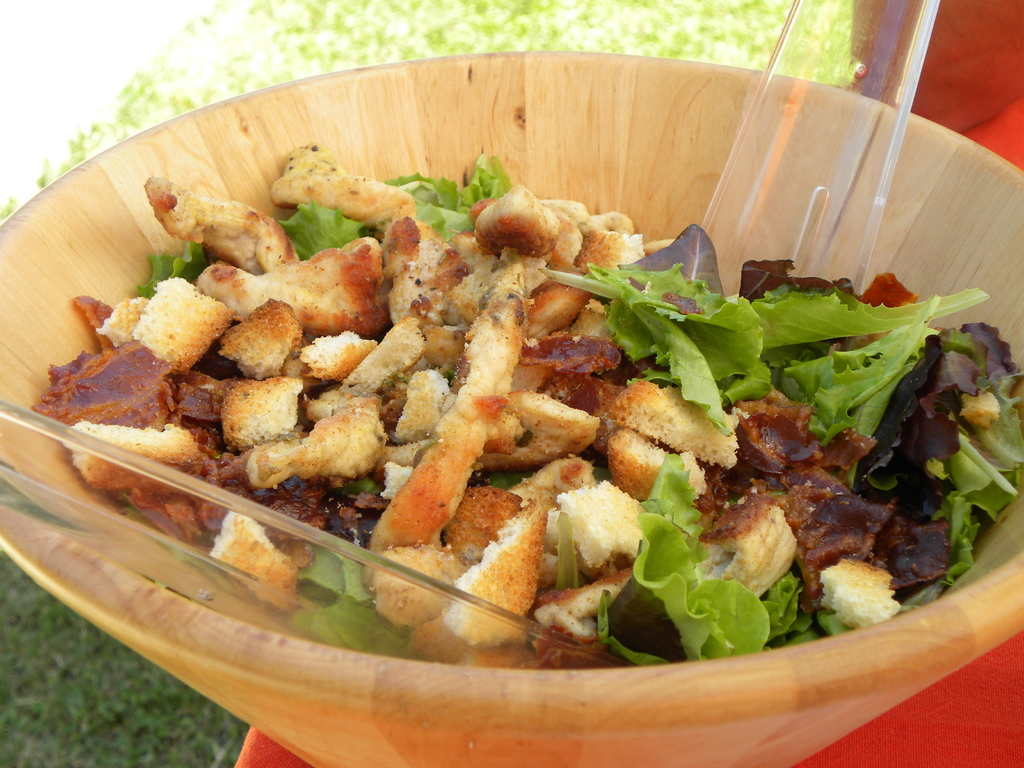salad: (29, 145, 1023, 678)
